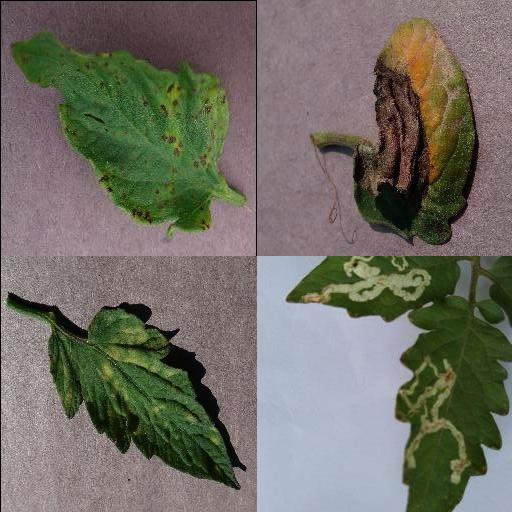Late Blight: (352, 17, 476, 245)
Leaf Miner: (394, 304, 512, 512), (284, 256, 461, 322)
Leaf Mold: (45, 307, 241, 489)
Septoria: (9, 34, 231, 232)
